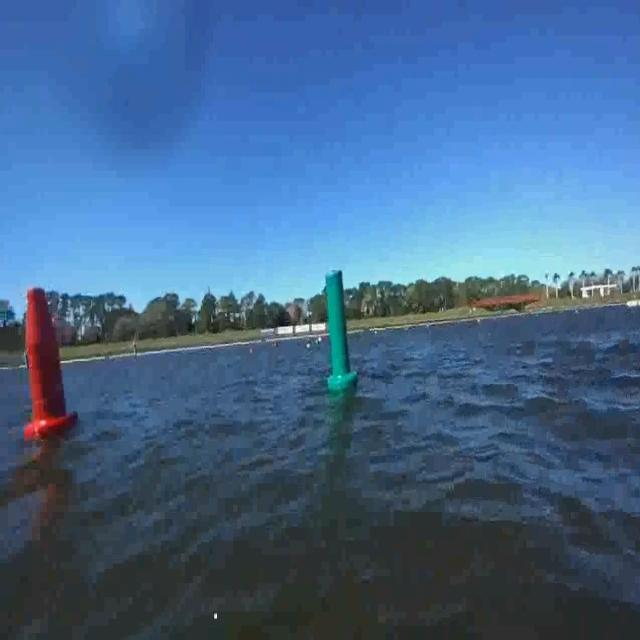green-column-buoy: (324, 268, 357, 392)
red-column-buoy: (21, 283, 74, 437)
